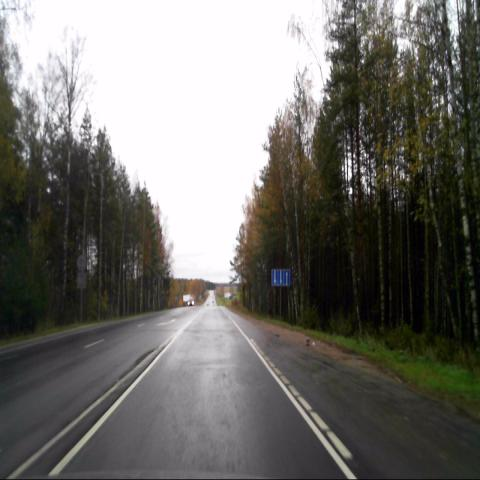5_15_7: (271, 268, 290, 286)
